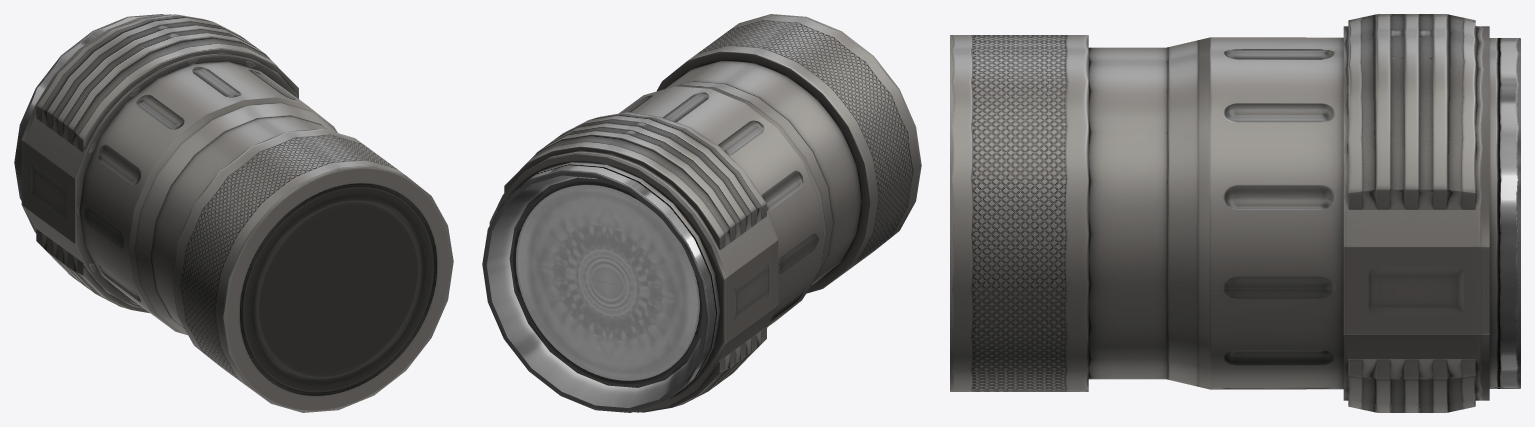
File: spotlight.dae
3 views of the same model, side by side, from view 1: azimuth 30°, elevation 25°; view 2: azimuth 150°, elevation 25°; view 3: azimuth 270°, elevation 25° (orthographic). The views are drawn at different scales.
Parts seen in each view (by area): view 1: Spotlight_Drone; view 2: Spotlight_Drone; view 3: Spotlight_Drone.
Part boxes in pixels (bbox=[...]): Spotlight_Drone: bbox=[14, 14, 453, 412]; Spotlight_Drone: bbox=[482, 14, 921, 412]; Spotlight_Drone: bbox=[950, 14, 1520, 412].
Size of the model in its own units: 4.5 by 7 by 4.9.
Materials: 1 (1 with a texture image).
